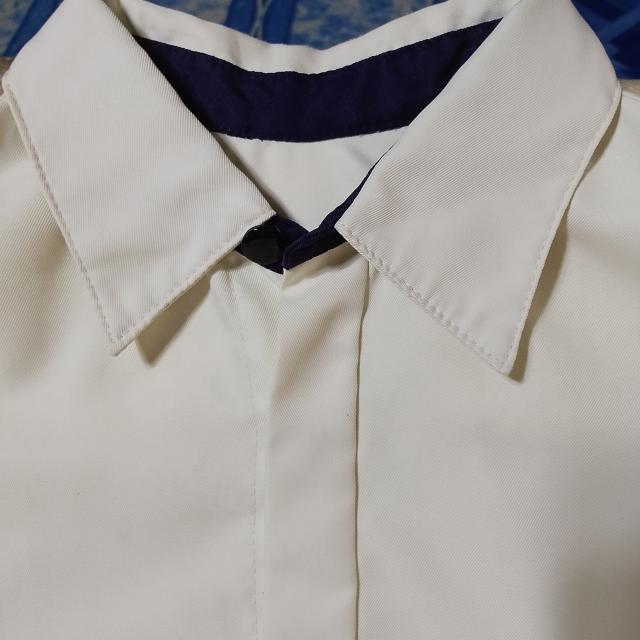education_male_uniform: (0, 0, 640, 588), (0, 0, 358, 530)
